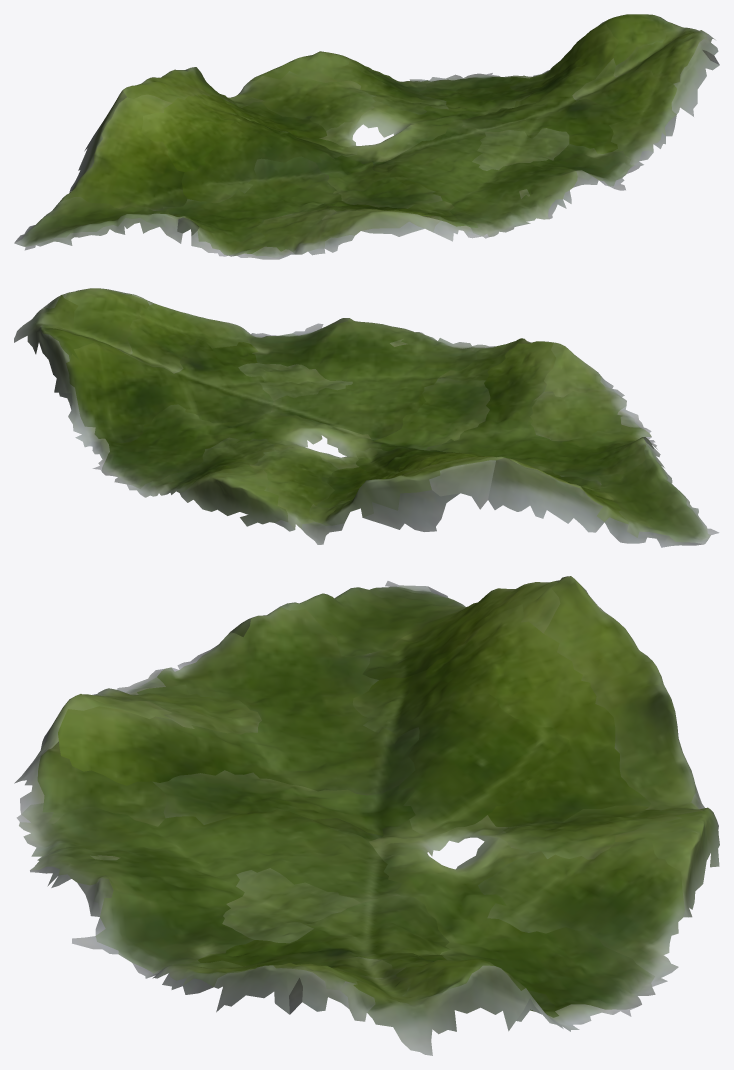
File: leaf-10.glb
3 renders of one model, top to bottom at view 1: azimuth 30°, elevation 25°; view 2: azimuth 150°, elevation 25°; view 3: azimuth 270°, elevation 25°, orthographic. The views are drawn at different scales.
Parts seen in each view (by area): view 1: Mesh; view 2: Mesh; view 3: Mesh.
Part boxes in pixels (bbox=[...]): Mesh: bbox=[14, 14, 719, 259]; Mesh: bbox=[14, 288, 719, 547]; Mesh: bbox=[14, 576, 719, 1055].
Bounding box in the file's own units: 0.1557 × 0.0201 × 0.088.
1 material, 1 textured.
